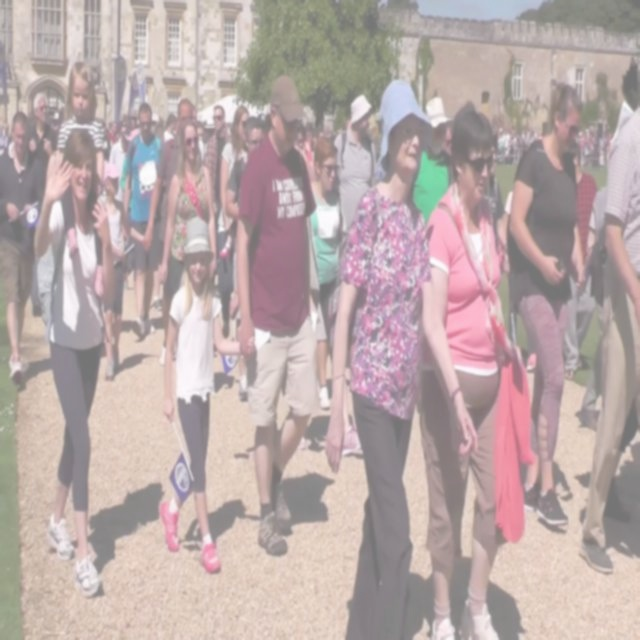pessoa: (322, 73, 480, 639), (410, 105, 538, 639), (233, 69, 319, 558), (28, 128, 116, 604), (504, 78, 586, 528), (158, 216, 256, 579), (578, 106, 640, 580), (0, 106, 354, 150), (142, 93, 195, 362), (56, 59, 106, 300), (158, 118, 218, 300), (0, 112, 39, 386), (309, 132, 345, 414), (120, 101, 163, 337), (101, 161, 145, 382), (560, 140, 600, 382), (576, 182, 610, 434), (218, 104, 250, 342), (334, 92, 378, 252), (488, 117, 611, 162), (204, 103, 232, 287), (413, 96, 451, 228), (225, 115, 268, 224), (24, 90, 58, 210), (502, 188, 519, 348), (612, 72, 639, 142)
